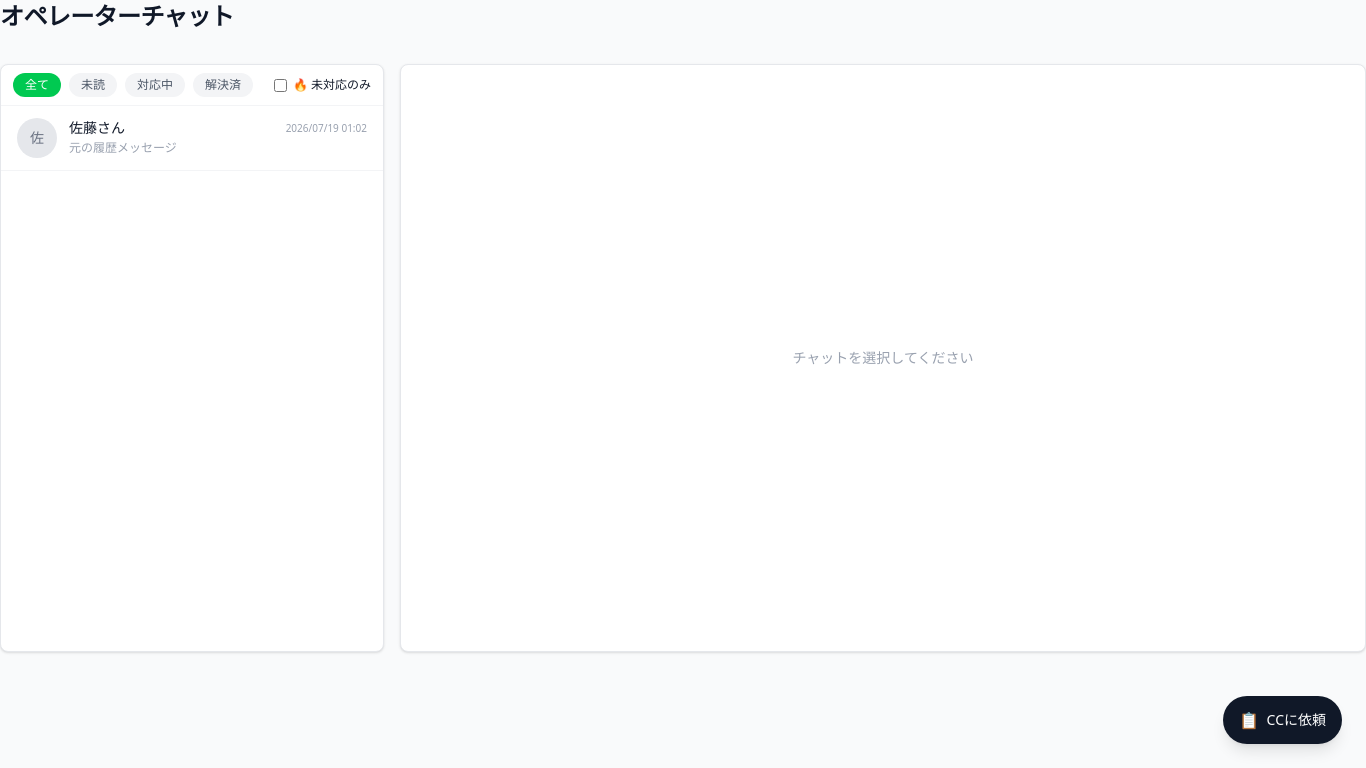
Test: 個別チャット履歴の拡大表示 › 狭い窓と同じ履歴内容をデスクトップ90%・モバイル全画面のダイアログで開く
The image size is (1366, 768).
Click the button "佐 佐藤さん 2026/07/19 01:02 元の履歴メッセージ": (37, 138) [1,106,383,171]
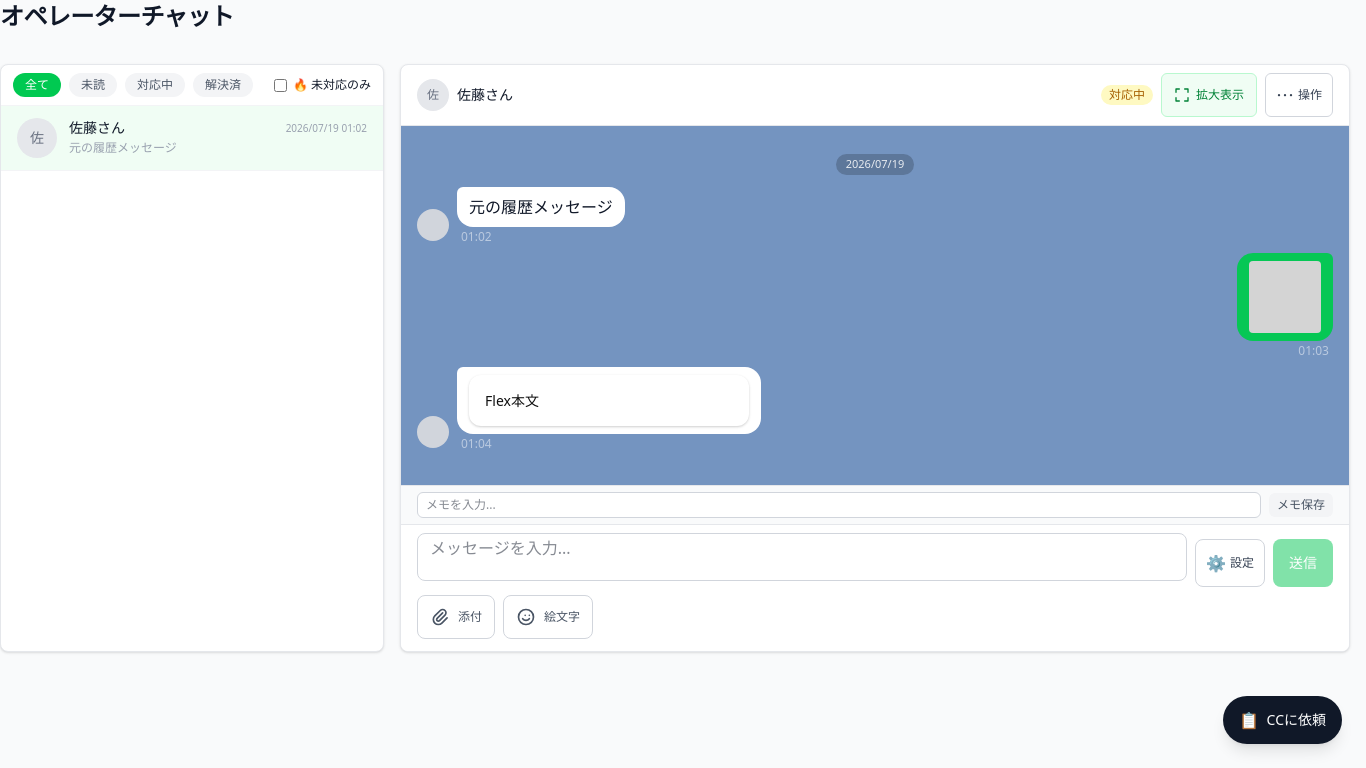
Check: the button with aria-label "チャット履歴を拡大表示" is shown
Click the button with aria-label "チャット履歴を拡大表示": (1209, 95) [1161,73,1257,117]
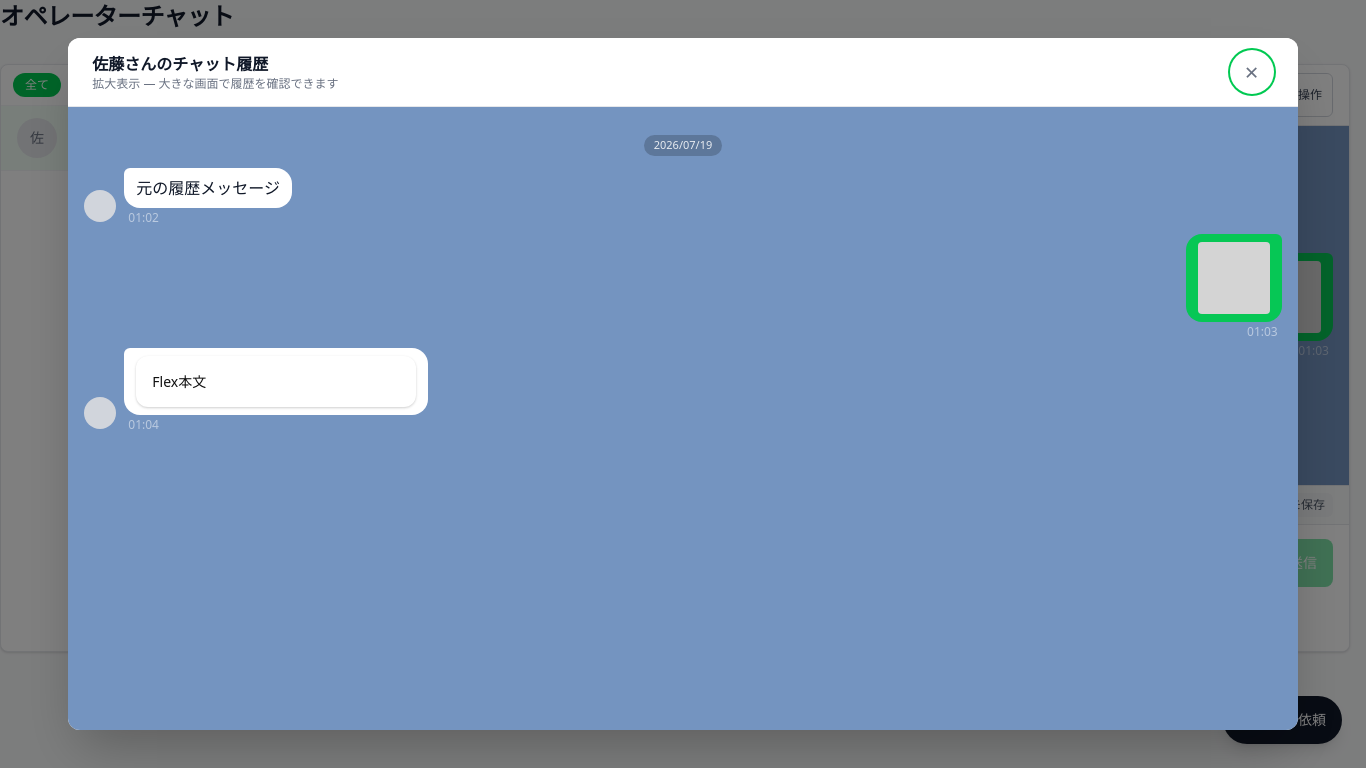
Check: the number of elements with test id "chat-message-history" is 2, box [401,126,1349,485]; [68,107,1298,730]
